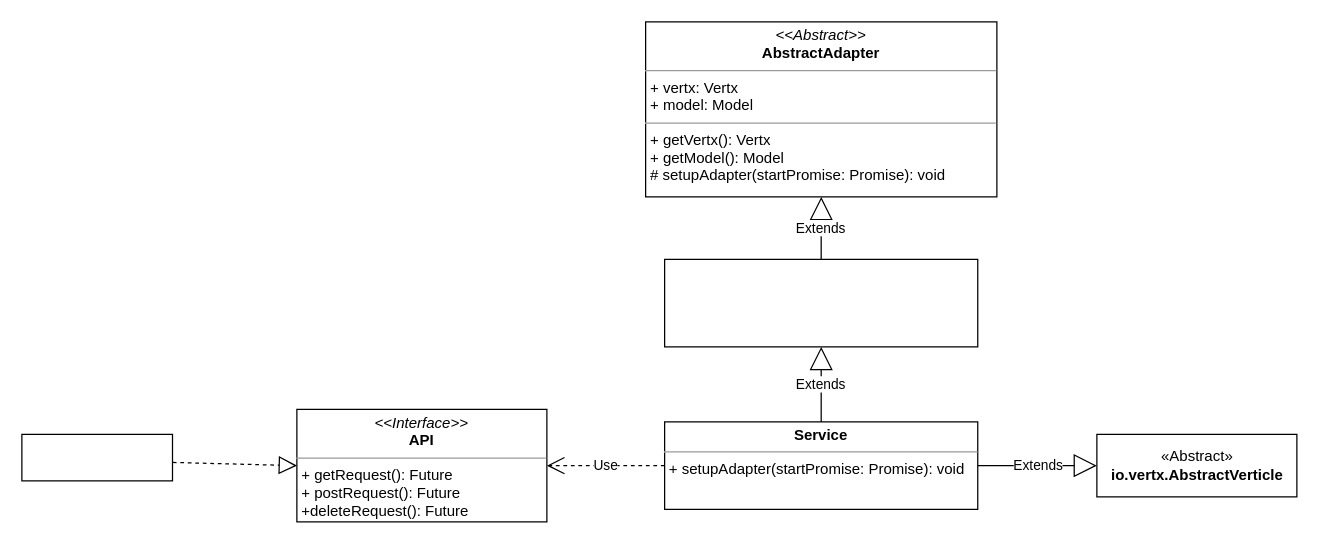
Image size: 1319x544. Some labels were removed from this diagram. Each missing label, with the centre of its shape:
Adapter + setupAdapter(startPromise: Promise): void: the point at 820,302
Model: the point at 96,457
